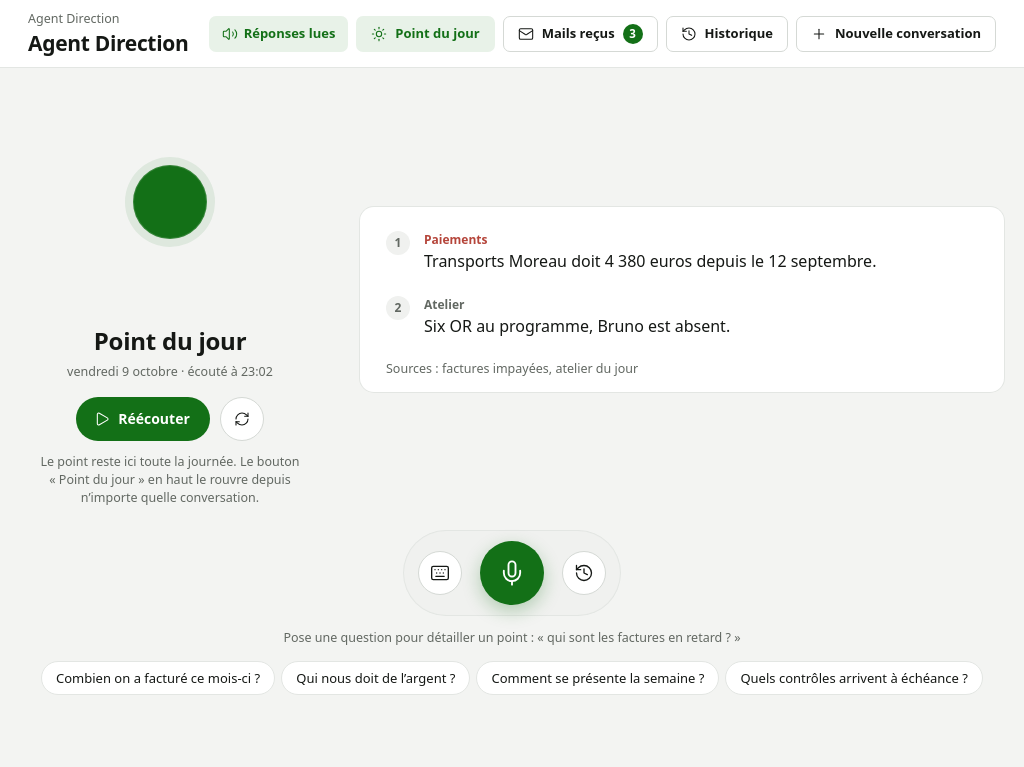
Test: Agent Direction › agent désactivé : message, lien vers les réglages, question gardée
The image size is (1024, 767).
Click the button named "Écrire la question" at (440, 573), box [418,551,462,595]
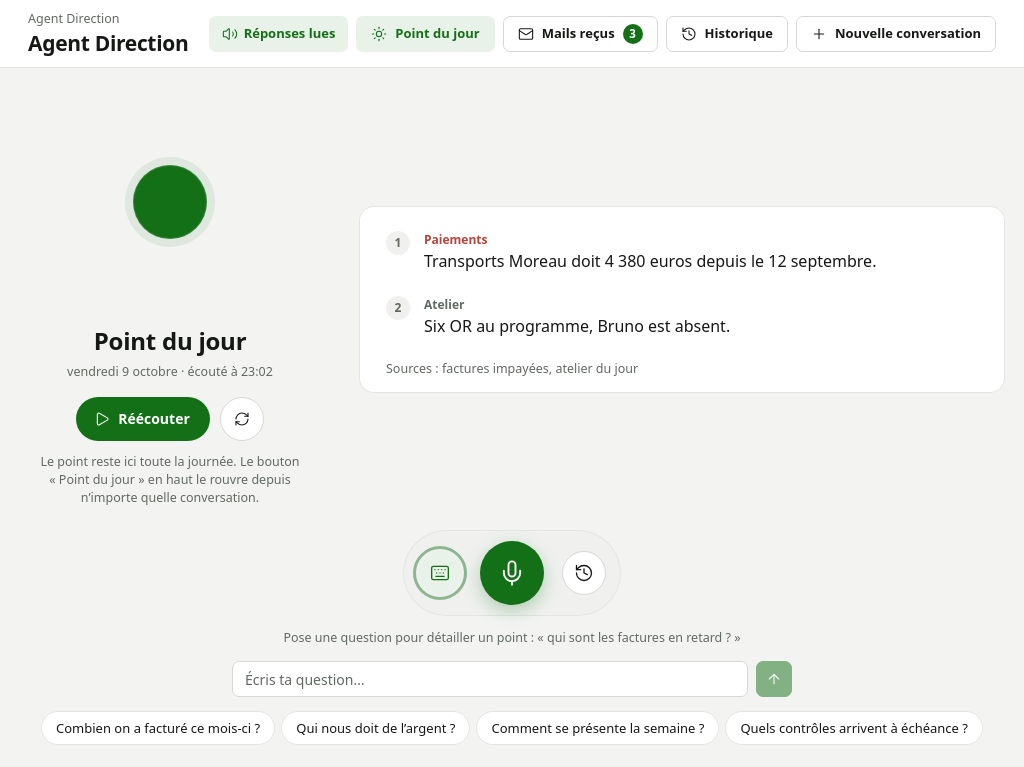
Type "CA ?" into the field named "Question à l’agent" at (490, 679), box [232,661,748,697]
Then press Enter
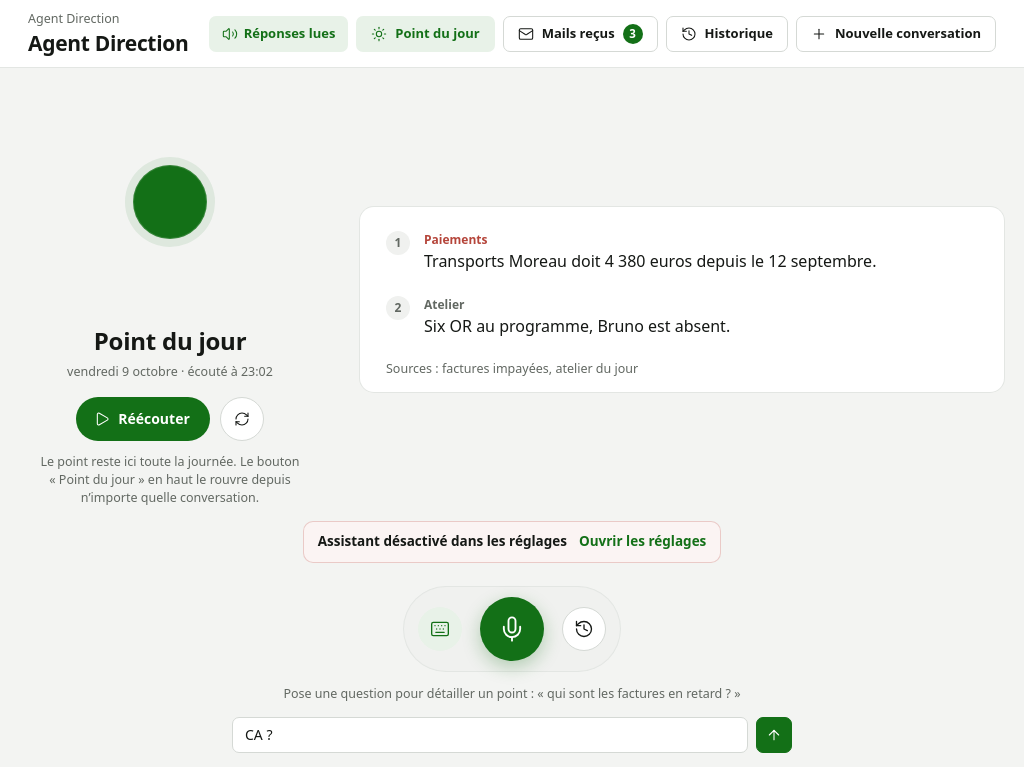
expect the message shows "Assistant désactivé dans les réglages": met, box [318,532,567,550]
